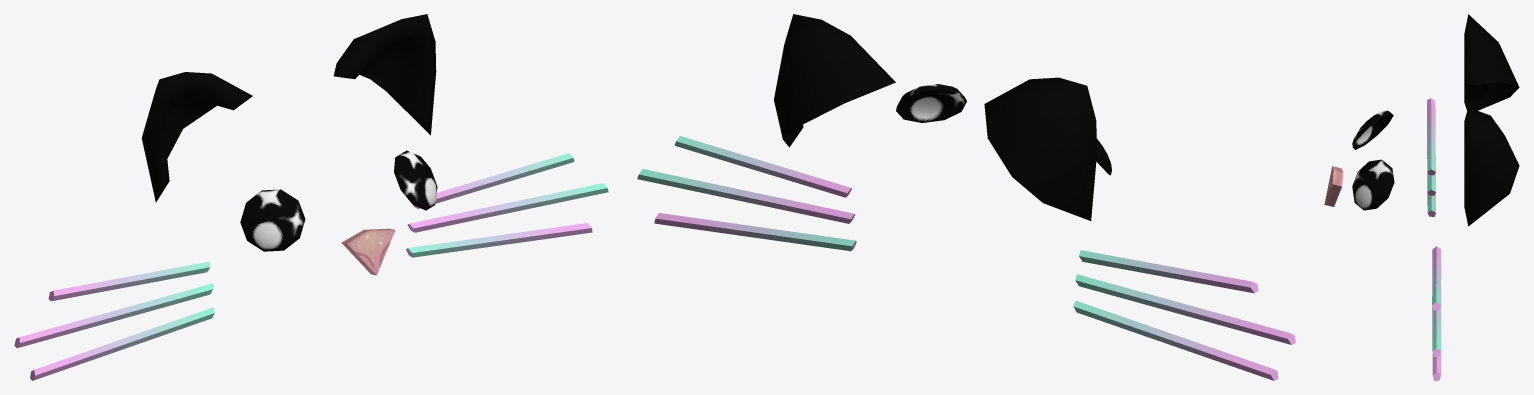
Rendered from cat tail cat face.fbx.
3 views of the same model, side by side, from view 1: azimuth 30°, elevation 25°; view 2: azimuth 150°, elevation 25°; view 3: azimuth 270°, elevation 25° (orthographic). The views are drawn at different scales.
Visible parts, largest first — view 1: cat_face_tail; view 2: cat_face_tail; view 3: cat_face_tail.
Part boxes in pixels (x1=…): cat_face_tail: x1=14, y1=14, x2=608, y2=380; cat_face_tail: x1=637, y1=14, x2=1295, y2=380; cat_face_tail: x1=1324, y1=14, x2=1519, y2=380.
Size of the model in its own units: 23.03 by 7.85 by 9.2.
